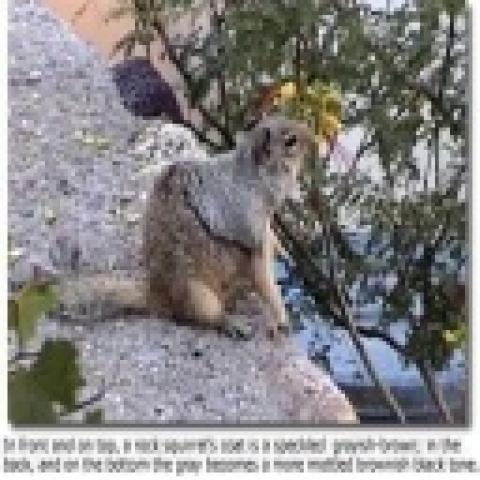small_animal: (50, 109, 322, 341)
